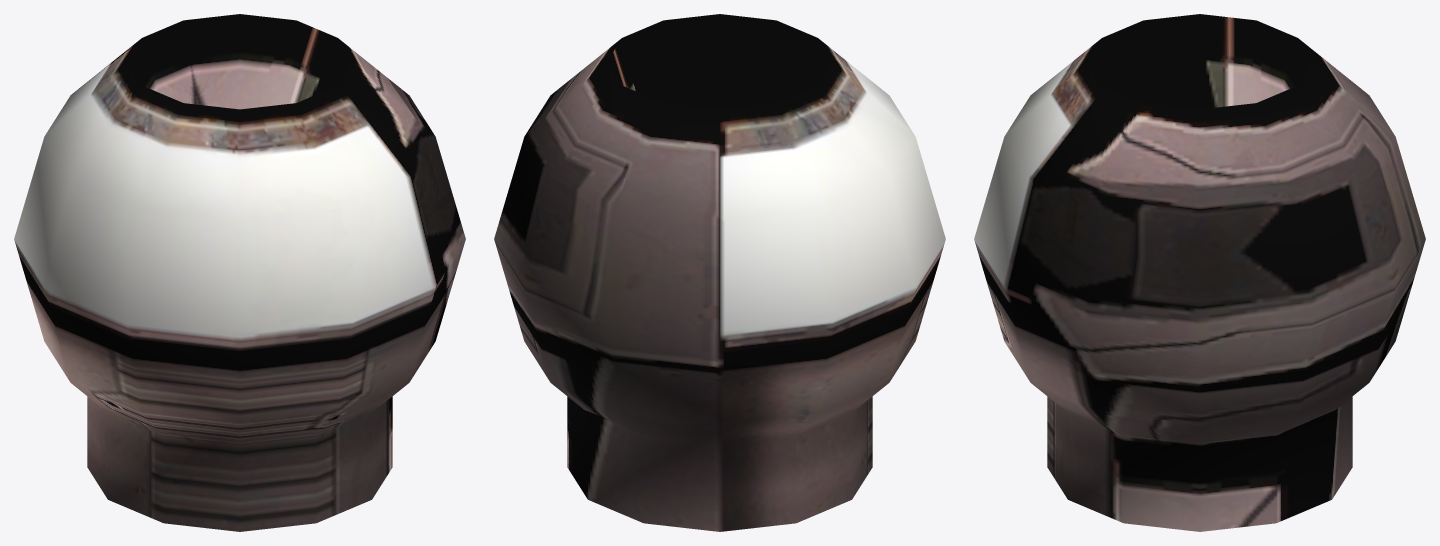
The model's file is lamp3.glb.
3 views of the same model, side by side, from view 1: azimuth 30°, elevation 25°; view 2: azimuth 150°, elevation 25°; view 3: azimuth 270°, elevation 25° (orthographic).
Parts seen in each view (by area): view 1: Sphere01; view 2: Sphere01; view 3: Sphere01.
Part boxes in pixels (<box>): Sphere01: <box>14,14,465,531</box>; Sphere01: <box>494,14,945,531</box>; Sphere01: <box>974,14,1425,531</box>.
Bounding box in the file's own units: 17.54 × 17.38 × 17.54.
1 material, 1 textured.
